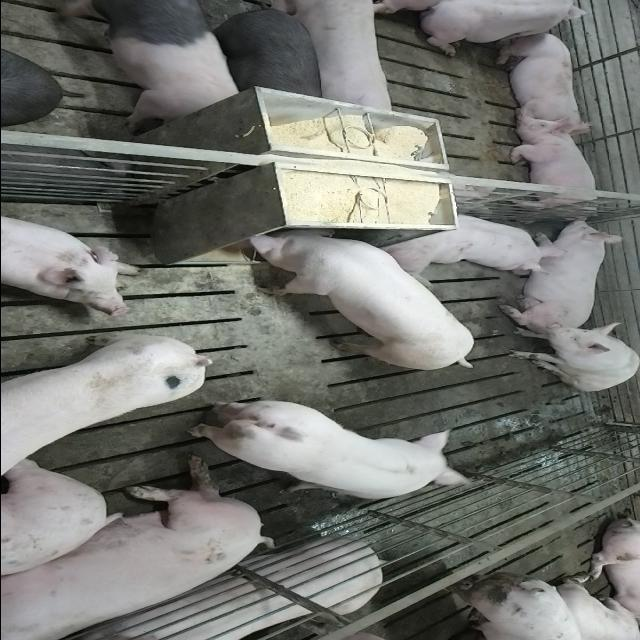Feeding: (239, 220, 475, 368)
Lateral_lying: (0, 457, 273, 638), (47, 538, 384, 640)
Sitting: (503, 321, 638, 392)
Standing: (2, 331, 216, 501), (181, 402, 474, 504), (48, 2, 246, 126), (271, 3, 398, 122), (208, 2, 325, 100)
Sternal_lying: (0, 208, 138, 310), (500, 216, 626, 326), (382, 210, 561, 274), (412, 2, 600, 56), (492, 31, 588, 130), (505, 120, 603, 214)
